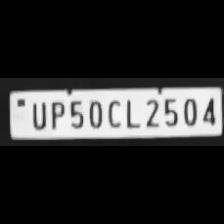0: (85, 96, 103, 128), (180, 94, 198, 125)
2: (140, 96, 160, 128)
4: (198, 94, 218, 126)
5: (65, 97, 84, 128), (160, 95, 178, 127)
C: (104, 97, 122, 129)
L: (122, 96, 140, 128)
P: (46, 98, 66, 130)
U: (28, 98, 48, 130)
